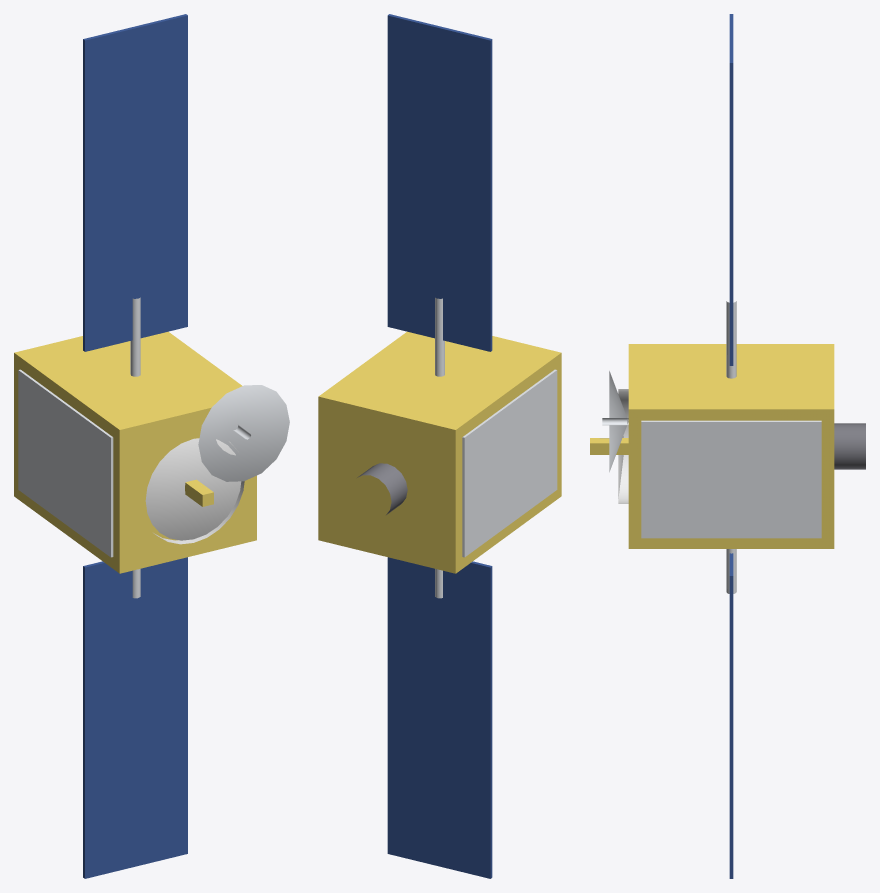
The model's file is satellite_navsat.glb.
3 views of the same model, side by side, from view 1: azimuth 30°, elevation 25°; view 2: azimuth 150°, elevation 25°; view 3: azimuth 270°, elevation 25° (orthographic). The views are drawn at different scales.
Visible parts, largest first — view 1: RPS_Small_GEO_Satellite; view 2: RPS_Small_GEO_Satellite; view 3: RPS_Small_GEO_Satellite.
Boxes of the visible parts, box(x1,y1,x2,y2) form: RPS_Small_GEO_Satellite: box(14, 14, 289, 878); RPS_Small_GEO_Satellite: box(318, 14, 561, 878); RPS_Small_GEO_Satellite: box(590, 14, 865, 878).
Size of the model in its own units: 1.42 by 7 by 2.14.
